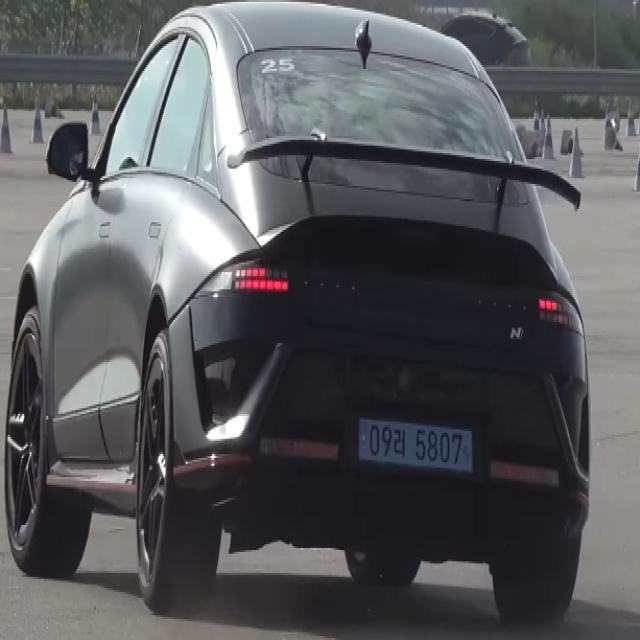car: (339, 401, 494, 494)
carev: (462, 429, 475, 477), (359, 412, 370, 464)
